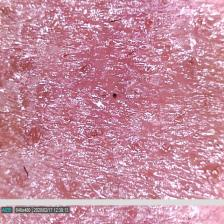Dry: (0, 0, 224, 195)
